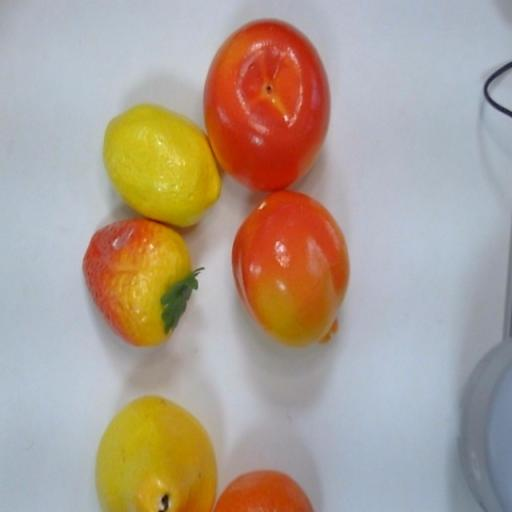Ripe: (234, 179, 364, 360), (204, 8, 332, 188), (104, 98, 229, 232), (77, 214, 201, 344), (89, 394, 214, 512), (214, 470, 324, 512)
